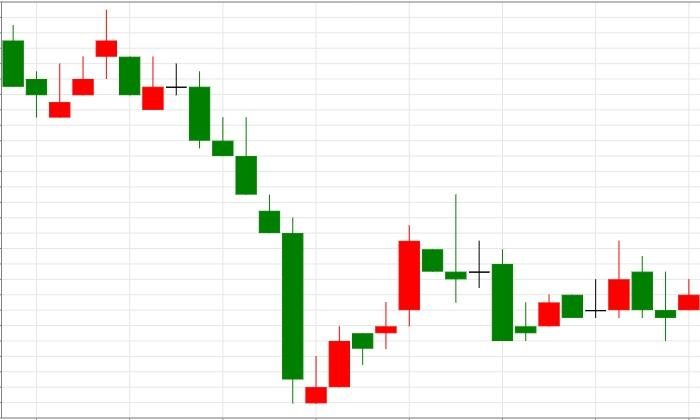morning_star_rise: (166, 63, 351, 404)
